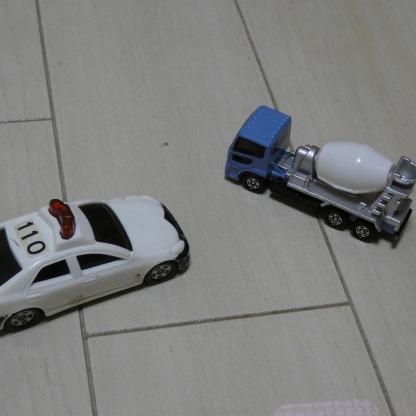car: (218, 105, 416, 243), (0, 194, 191, 330)
